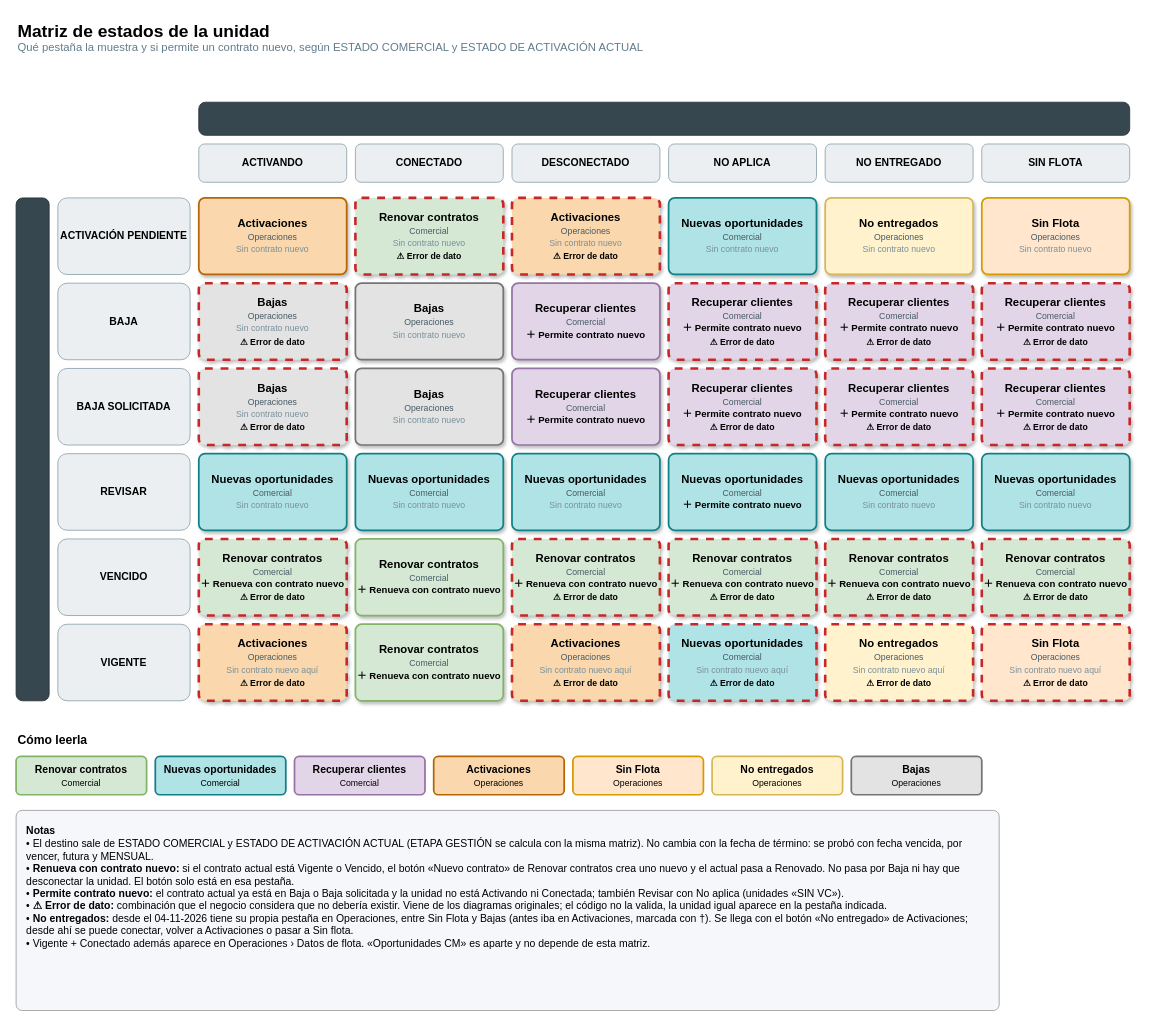
Image size: 1151x1026. Some labels were removed from this diagram. Each missing label, with the centre of its shape:
ESTADO COMERCIAL: the point at 32,449
ESTADO DE ACTIVACIÓN ACTUAL: the point at 664,118
